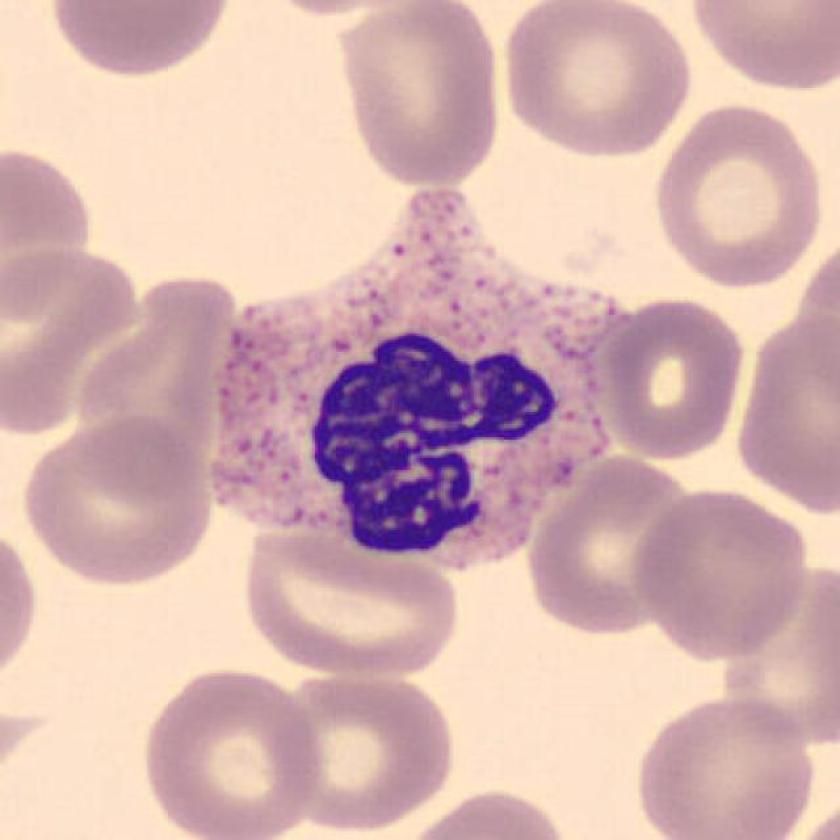neutrophil: (218, 191, 623, 571)
